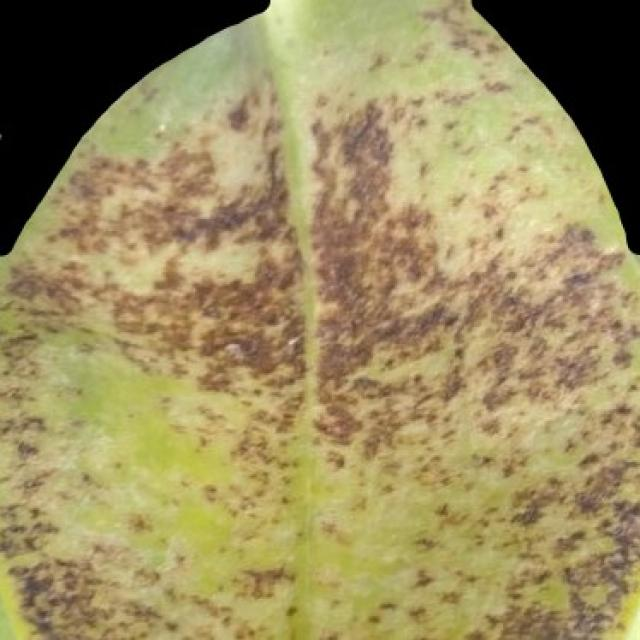mite: (44, 339, 243, 560), (0, 103, 24, 257), (0, 108, 14, 175), (14, 436, 38, 460), (0, 118, 15, 152), (0, 106, 7, 154), (0, 125, 5, 147)
